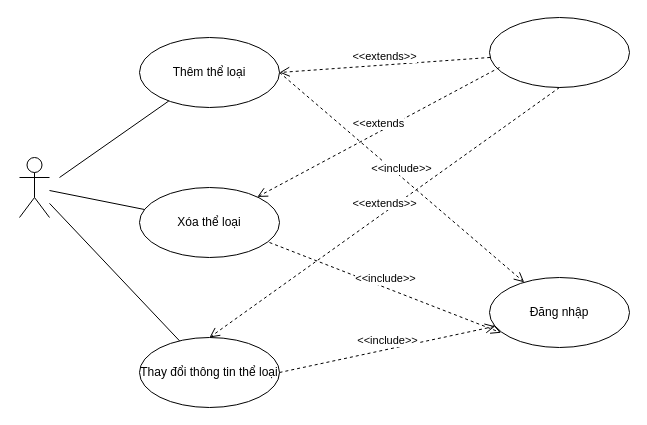
The diagram is 647 pixels wide and 425 high, and some of its shapes have lost their labels. Here are the shapes that lost their labels. From the top down, the centre of each, then its label:
the point at 559,52: Xem danh sách thể loại
the point at 34,187: Admin
